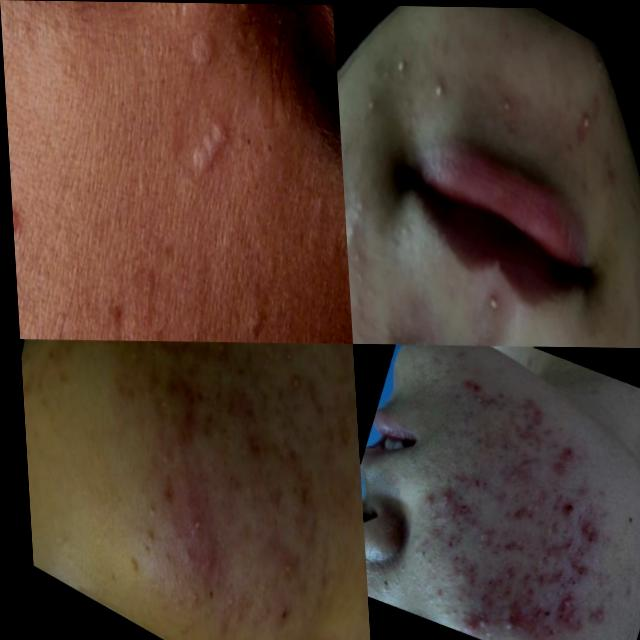8: (190, 542, 219, 588), (407, 483, 435, 513), (456, 608, 483, 637), (181, 506, 202, 541)
9: (475, 276, 509, 328), (387, 43, 418, 89), (573, 100, 597, 144), (425, 72, 453, 108), (496, 76, 519, 116), (426, 483, 455, 513), (590, 49, 611, 79)
blackheads: (166, 368, 203, 444), (214, 379, 259, 431), (547, 586, 590, 637), (569, 511, 607, 552)
dark spot: (256, 120, 291, 179), (235, 109, 263, 160)
